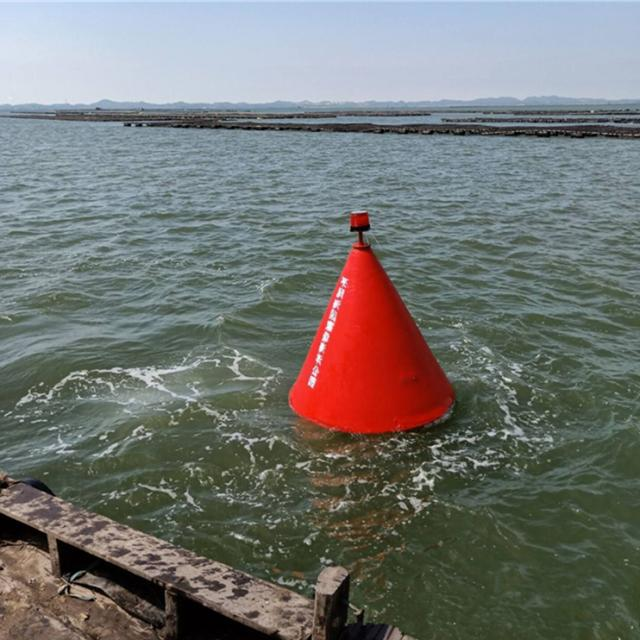buoy: (289, 209, 464, 435)
